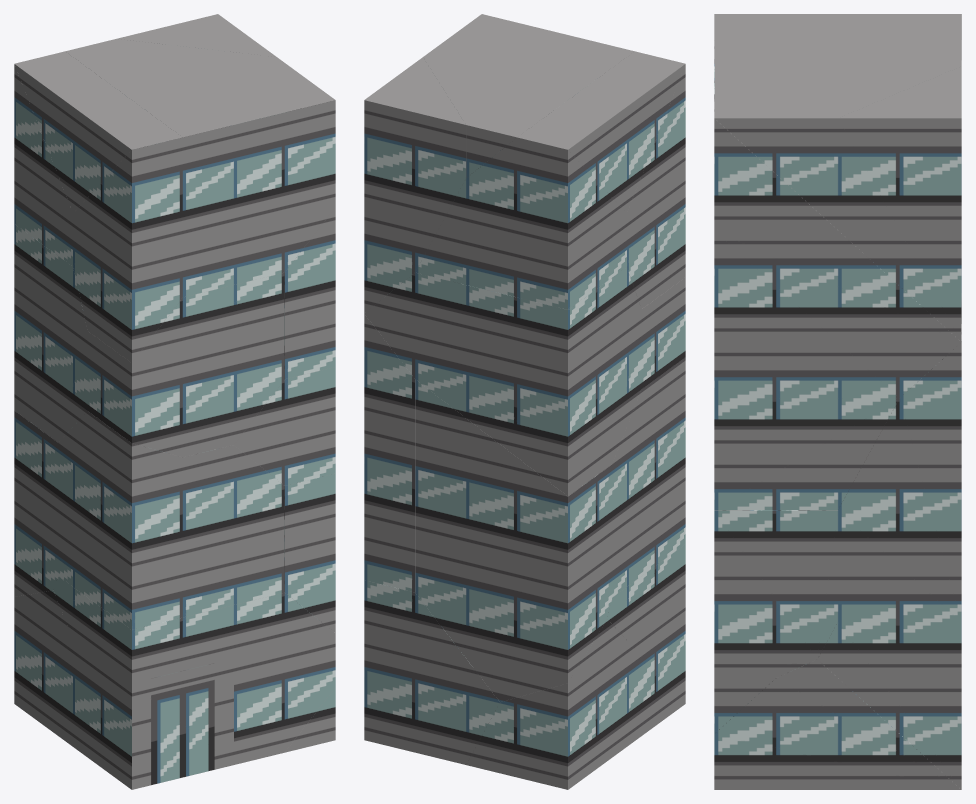
Rendered from Building_2x2x6 Brick.fbx.
The picture shows the model from 3 angles, left to right: view 1: azimuth 30°, elevation 25°; view 2: azimuth 150°, elevation 25°; view 3: azimuth 270°, elevation 25°; orthographic projection. The views are drawn at different scales.
Visible parts, largest first — view 1: BuildingConcrete_2x2x6_cell.006, BuildingConcrete_2x2x6_cell.009, BuildingConcrete_2x2x6_cell.011, BuildingConcrete_2x2x6_cell.017, BuildingConcrete_2x2x6.Door, BuildingConcrete_2x2x6_cell.003, BuildingConcrete_2x2x6_cell.018, BuildingConcrete_2x2x6_cell.007, BuildingConcrete_2x2x6_cell.010, BuildingConcrete_2x2x6_cell.016, BuildingConcrete_2x2x6_cell.004, BuildingConcrete_2x2x6_cell.015 (+7 smaller); view 2: BuildingConcrete_2x2x6_cell.015, BuildingConcrete_2x2x6_cell.010, BuildingConcrete_2x2x6_cell.019, BuildingConcrete_2x2x6_cell.008, BuildingConcrete_2x2x6_cell, BuildingConcrete_2x2x6_cell.007, BuildingConcrete_2x2x6_cell.005, BuildingConcrete_2x2x6_cell.011, BuildingConcrete_2x2x6_cell.012, BuildingConcrete_2x2x6_cell.016, BuildingConcrete_2x2x6_cell.017, BuildingConcrete_2x2x6.Door (+2 smaller); view 3: BuildingConcrete_2x2x6_cell.014, BuildingConcrete_2x2x6_cell.012, BuildingConcrete_2x2x6_cell.008, BuildingConcrete_2x2x6_cell.007, BuildingConcrete_2x2x6_cell.002, BuildingConcrete_2x2x6_cell.013, BuildingConcrete_2x2x6_cell.004, BuildingConcrete_2x2x6_cell, BuildingConcrete_2x2x6_cell.009, BuildingConcrete_2x2x6_cell.016, BuildingConcrete_2x2x6_cell.003.
Part boxes in pixels (x1,y1,x2,y2): BuildingConcrete_2x2x6_cell.006: (87,272,284,457); BuildingConcrete_2x2x6_cell.009: (183,100,335,297); BuildingConcrete_2x2x6_cell.011: (58,411,182,629); BuildingConcrete_2x2x6_cell.017: (73,137,182,362); BuildingConcrete_2x2x6.Door: (73,640,233,789); BuildingConcrete_2x2x6_cell.003: (183,592,335,764); BuildingConcrete_2x2x6_cell.018: (183,445,284,617); BuildingConcrete_2x2x6_cell.007: (65,39,335,137); BuildingConcrete_2x2x6_cell.010: (14,224,87,442); BuildingConcrete_2x2x6_cell.016: (14,51,182,212); BuildingConcrete_2x2x6_cell.004: (234,367,335,485); BuildingConcrete_2x2x6_cell.015: (14,411,58,596); BuildingConcrete_2x2x6_cell.015: (415,379,612,701); BuildingConcrete_2x2x6_cell.010: (364,267,641,496); BuildingConcrete_2x2x6_cell.019: (415,137,626,309); BuildingConcrete_2x2x6_cell.008: (364,57,465,312); BuildingConcrete_2x2x6_cell: (364,580,499,764); BuildingConcrete_2x2x6_cell.007: (423,14,634,177); BuildingConcrete_2x2x6_cell.005: (466,619,626,789); BuildingConcrete_2x2x6_cell.011: (612,357,685,597); BuildingConcrete_2x2x6_cell.012: (364,314,415,592); BuildingConcrete_2x2x6_cell.016: (517,51,685,212); BuildingConcrete_2x2x6_cell.017: (627,64,685,308); BuildingConcrete_2x2x6.Door: (627,597,685,746); BuildingConcrete_2x2x6_cell.014: (714,230,961,398); BuildingConcrete_2x2x6_cell.012: (838,342,961,621); BuildingConcrete_2x2x6_cell.008: (838,66,961,341); BuildingConcrete_2x2x6_cell.007: (714,40,961,229); BuildingConcrete_2x2x6_cell.002: (714,510,837,677); BuildingConcrete_2x2x6_cell.013: (714,659,960,789); BuildingConcrete_2x2x6_cell.004: (714,398,899,509); BuildingConcrete_2x2x6_cell: (817,622,961,789); BuildingConcrete_2x2x6_cell.009: (714,40,837,230); BuildingConcrete_2x2x6_cell.016: (714,14,961,39); BuildingConcrete_2x2x6_cell.003: (714,678,775,733).
Size of the model in its own units: 600 by 1800 by 600.
